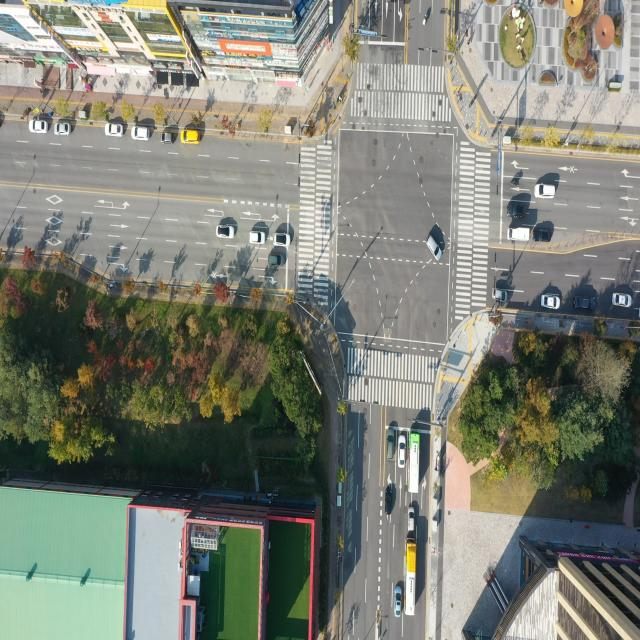car: (426, 236, 441, 262), (534, 182, 555, 198), (180, 129, 200, 145), (540, 293, 559, 309), (491, 286, 507, 305), (397, 436, 406, 468), (217, 224, 236, 239), (133, 127, 152, 142), (386, 426, 394, 461), (106, 124, 124, 139), (576, 296, 595, 310), (394, 585, 402, 618), (31, 118, 48, 133), (56, 123, 73, 138), (510, 203, 527, 218), (533, 228, 550, 243), (614, 292, 632, 306), (249, 232, 265, 246), (409, 506, 417, 534), (387, 484, 394, 514), (162, 132, 177, 145), (274, 235, 290, 247)
large_bus: (404, 543, 417, 614), (409, 436, 420, 496)
small_truck: (507, 224, 530, 245)
